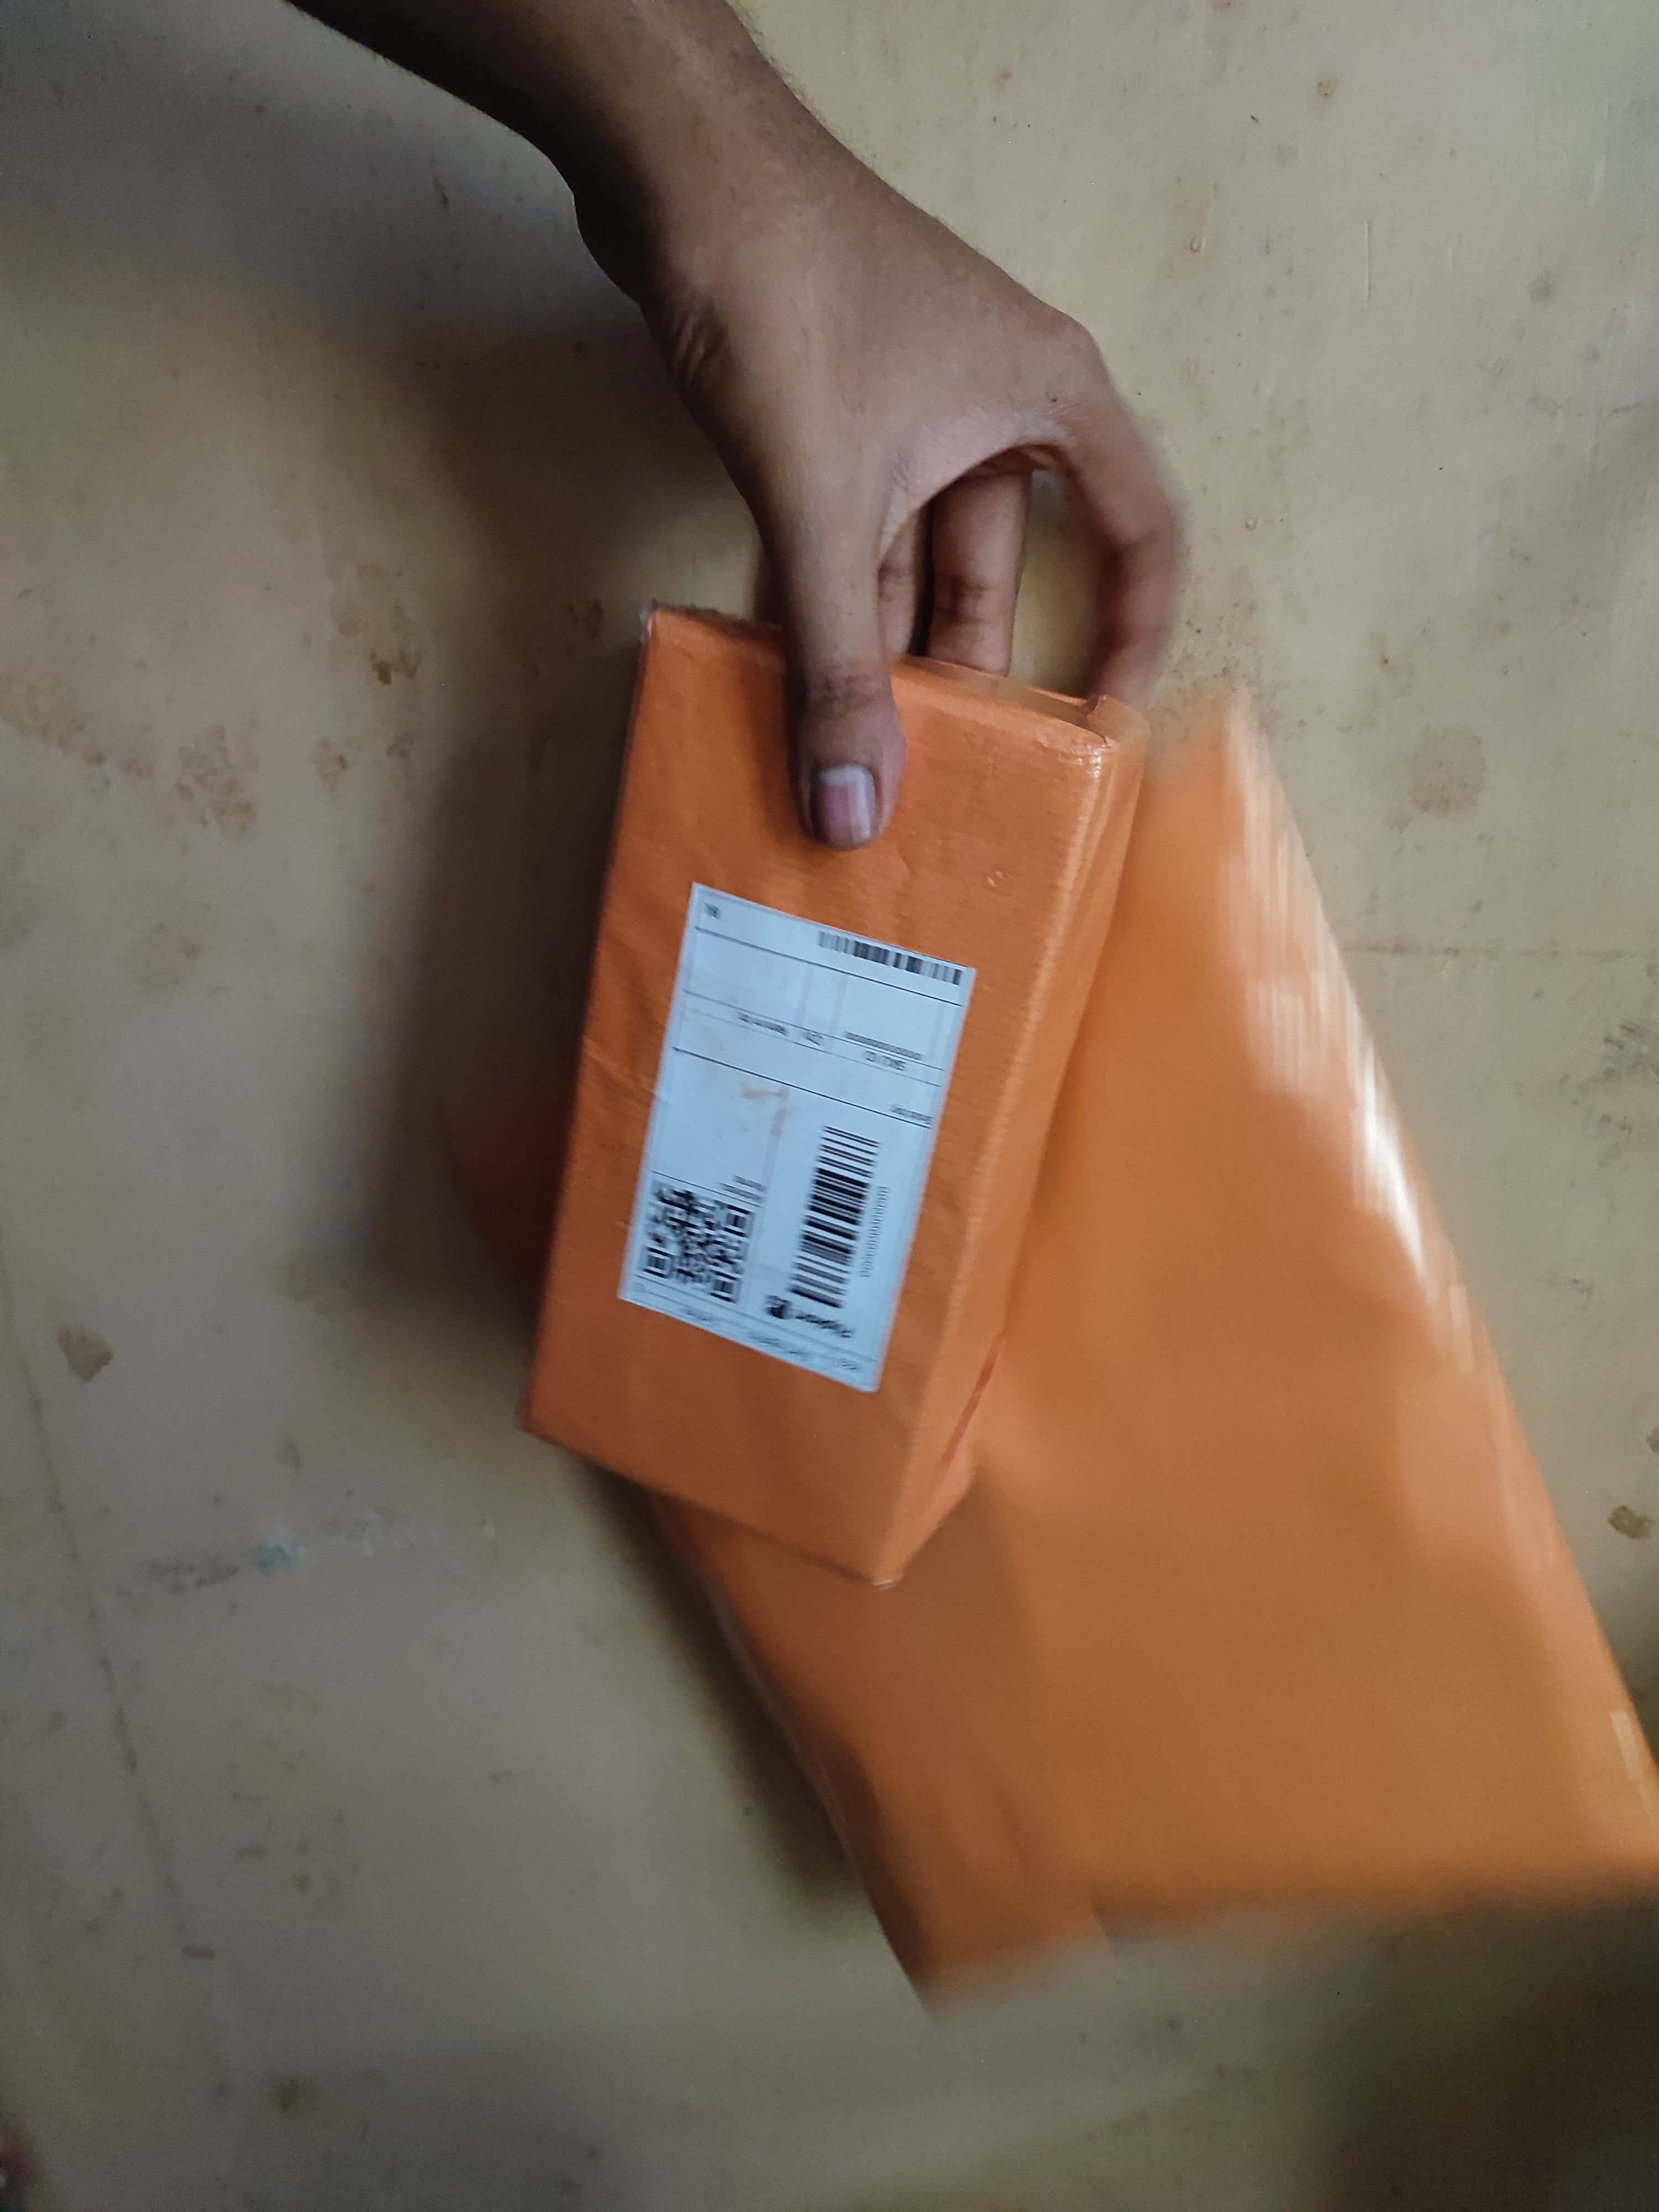Box: (483, 693, 1537, 2034), (519, 557, 1073, 1696)
